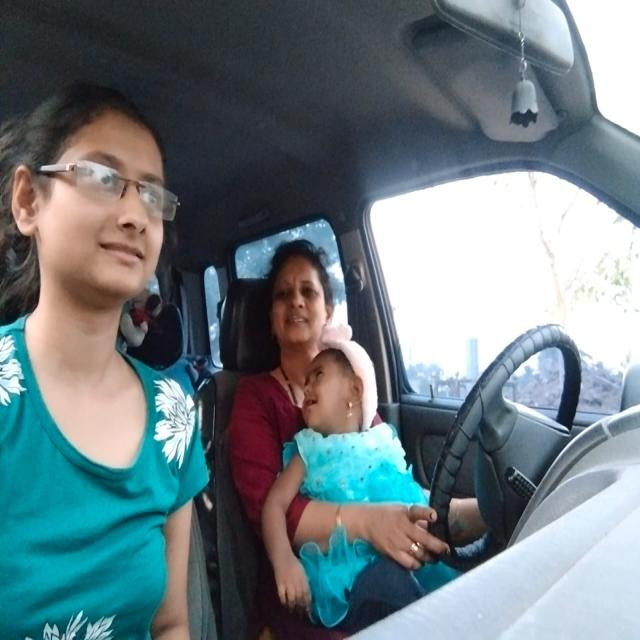child: (298, 354, 360, 434)
person: (0, 80, 175, 308), (262, 238, 334, 349)
